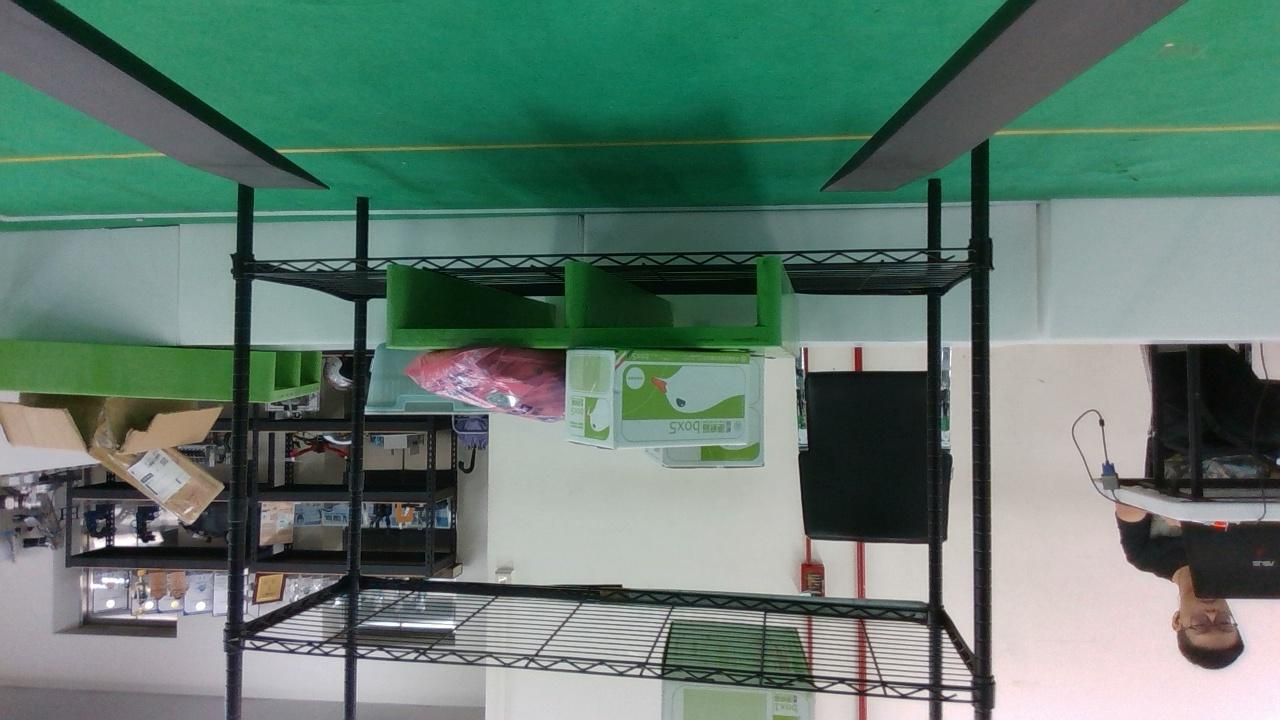Pallet: (385, 256, 784, 348)
